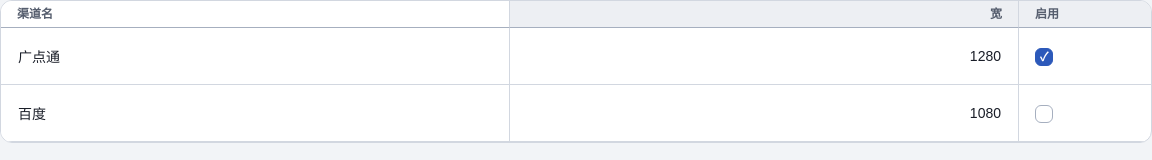
Test: DataGrid › Esc 撤回：不提交，且输入框回到原值
This screenshot has width=1152, height=160.
Replace the text in the field named "渠道名：广点通" with "改了一半": (255, 56) [9,36,501,76]
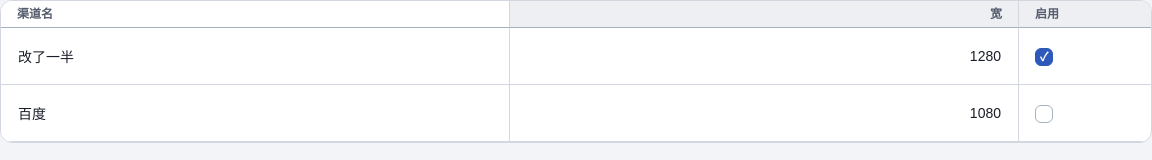
Press Escape in the field named "渠道名：广点通", box [9,36,501,76]
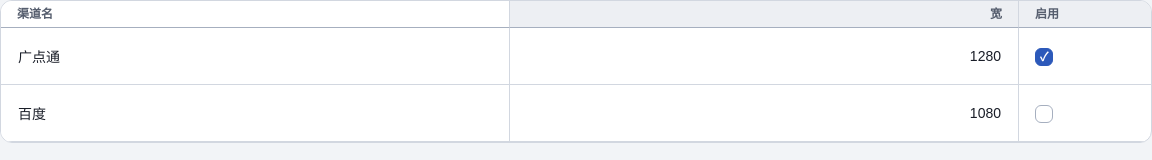
Expected: the field named "渠道名：广点通" holds "广点通", [9,36,501,76]
